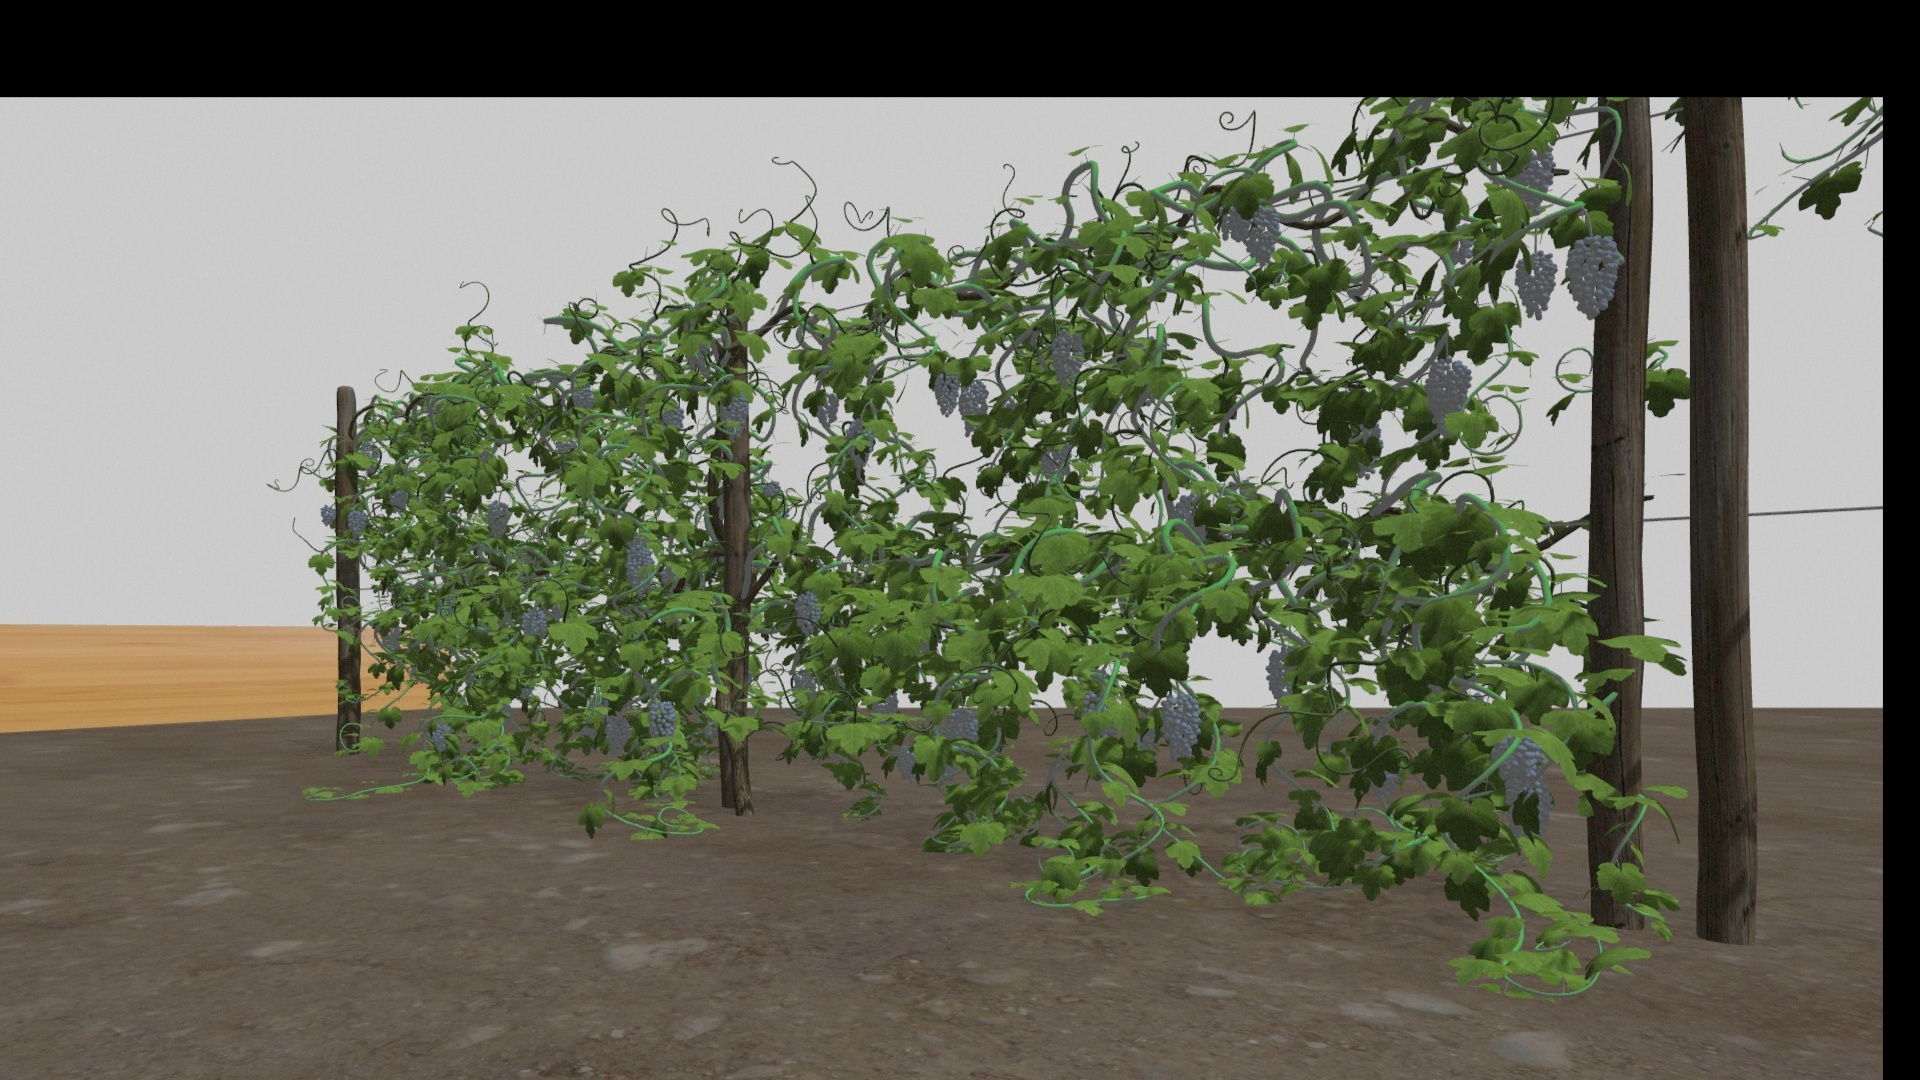grape: (1491, 736, 1553, 836), (1565, 233, 1622, 318), (1422, 356, 1472, 433), (1513, 251, 1556, 322), (1507, 146, 1555, 208), (1160, 694, 1201, 762), (1265, 647, 1303, 711), (1244, 200, 1280, 264), (1048, 328, 1084, 385), (959, 381, 989, 438), (625, 545, 655, 600), (932, 360, 961, 415), (1217, 196, 1251, 243), (717, 389, 749, 438), (794, 592, 825, 636), (944, 708, 978, 746), (603, 713, 632, 754), (647, 699, 679, 736), (485, 500, 512, 541), (895, 742, 920, 785), (520, 608, 546, 641), (429, 723, 455, 753), (345, 509, 367, 535), (661, 407, 684, 430), (572, 388, 593, 410), (388, 491, 407, 512), (319, 504, 336, 527)
